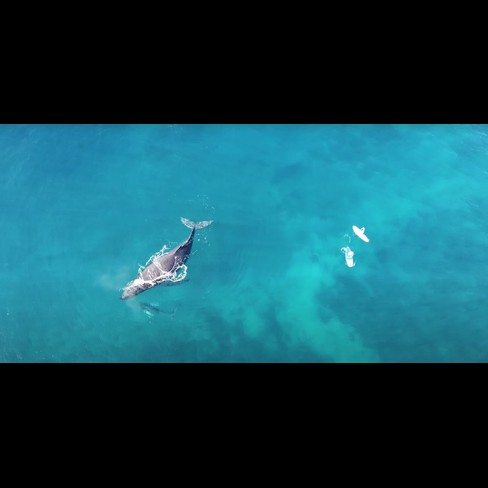hump: (115, 210, 219, 308)
